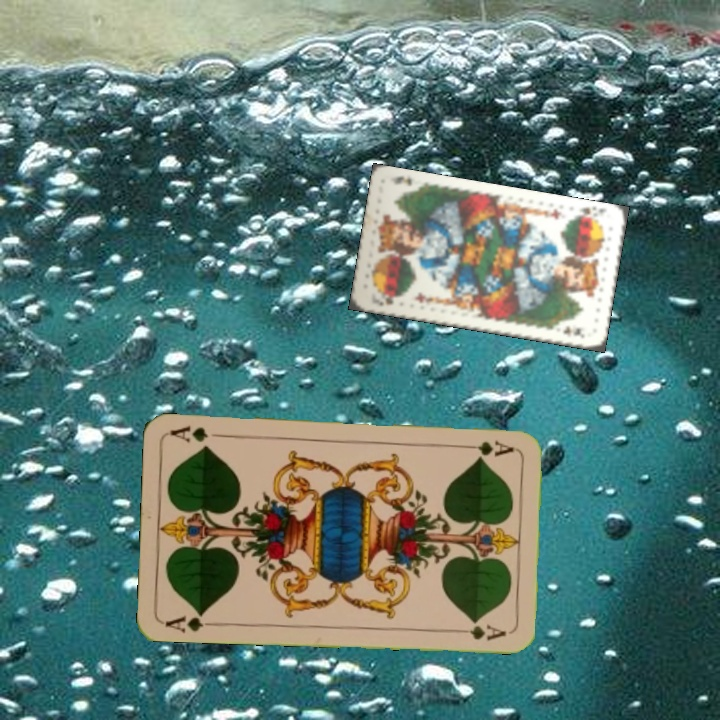GA: (161, 607, 220, 634), (458, 436, 516, 459)
SK: (571, 202, 598, 221), (376, 291, 404, 309)
